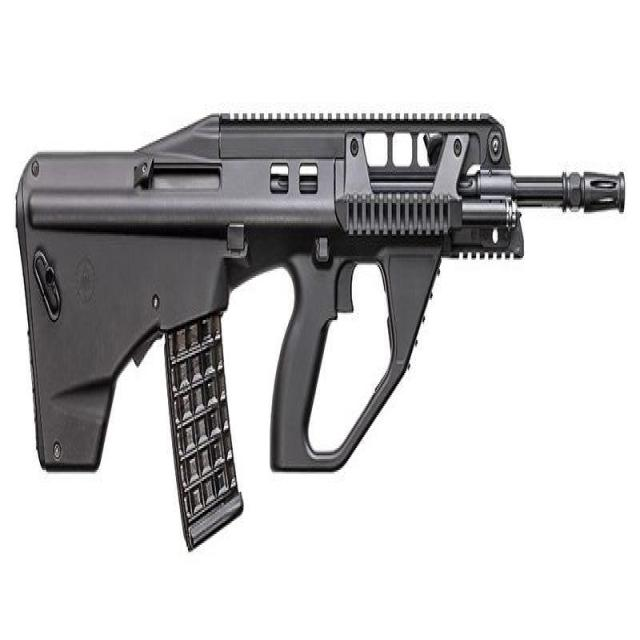weapon: (11, 73, 629, 554)
